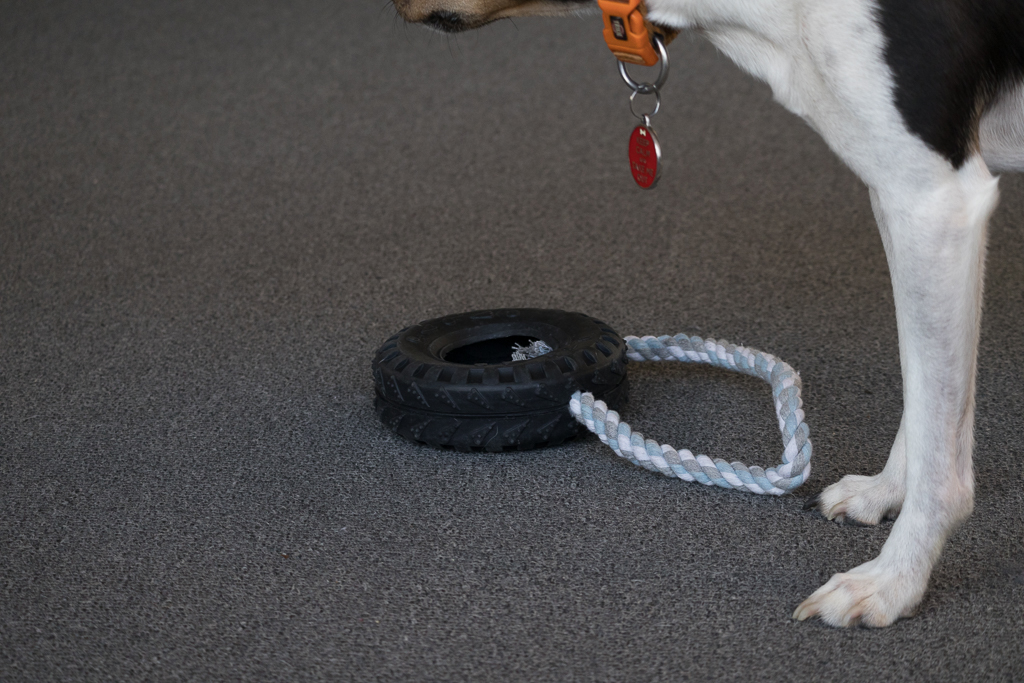Dog: (379, 0, 1024, 641)
